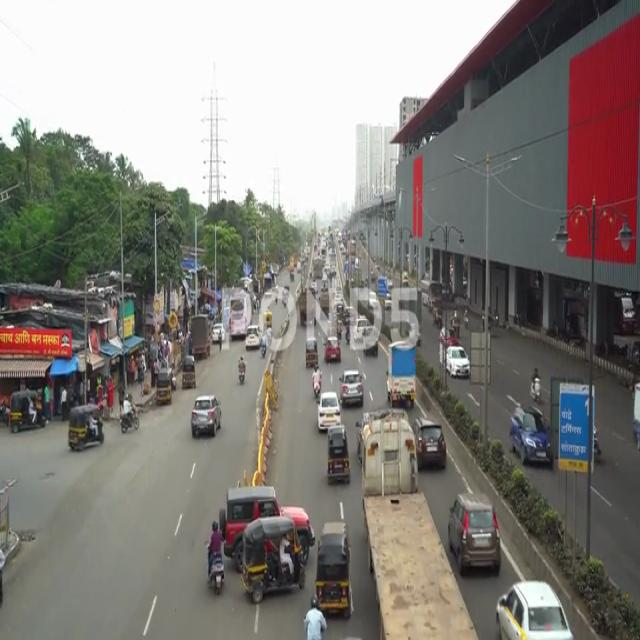car: (448, 486, 502, 576), (492, 588, 573, 640), (509, 403, 554, 467), (416, 418, 448, 473), (189, 392, 224, 441), (341, 366, 367, 405), (447, 346, 472, 383)
motorbike: (205, 520, 226, 600)
rikshaw: (244, 524, 305, 599), (317, 528, 353, 618), (68, 404, 104, 454), (328, 427, 350, 489)
truck: (355, 411, 482, 640)
